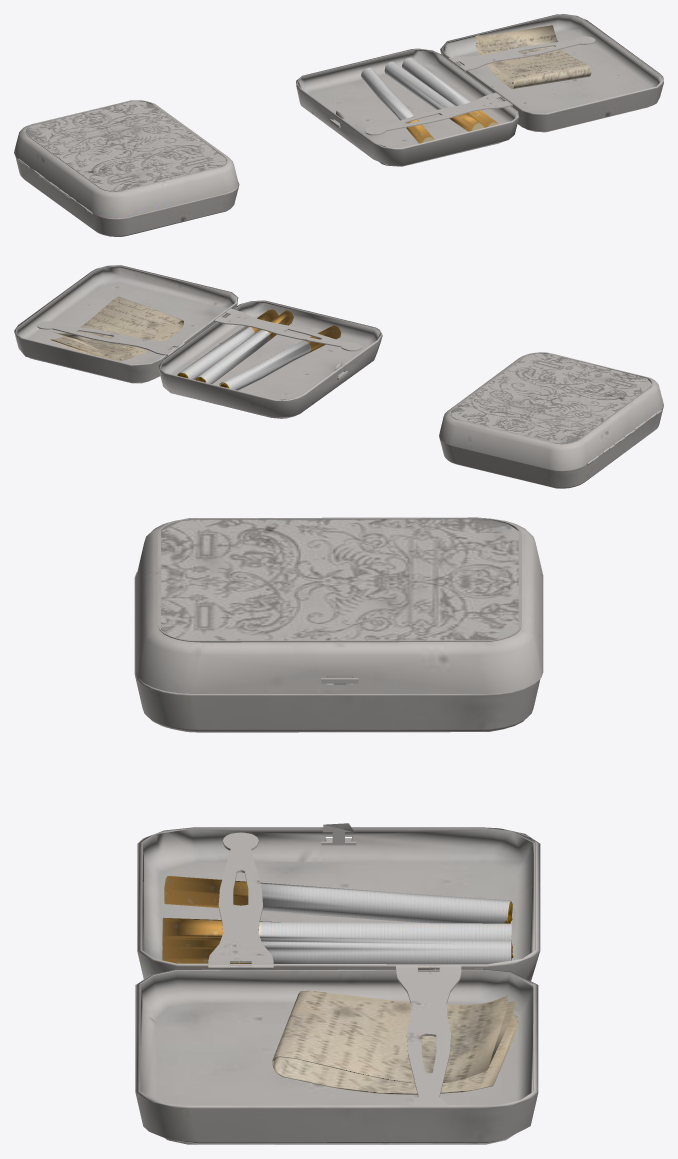
The model's file is cigarette_case.glb.
3 views of the same model, one above another, from view 1: azimuth 30°, elevation 25°; view 2: azimuth 150°, elevation 25°; view 3: azimuth 270°, elevation 25° (orthographic). The views are drawn at different scales.
Visible parts, largest first — view 1: cigarette_case, cigarette_case_cover_a, cigarette_case_cover_b, cigarette_case_note, cigarette_case_clip_a, cigarette_case_cigarette_b, cigarette_case_clip_b, cigarette_case_cigarette_a, cigarette_case_cigarette_c; view 2: cigarette_case, cigarette_case_cover_a, cigarette_case_cover_b, cigarette_case_note, cigarette_case_cigarette_a, cigarette_case_clip_a, cigarette_case_cigarette_b, cigarette_case_clip_b, cigarette_case_cigarette_c; view 3: cigarette_case, cigarette_case_cover_b, cigarette_case_cover_a, cigarette_case_note, cigarette_case_cigarette_a, cigarette_case_cigarette_c, cigarette_case_cigarette_b, cigarette_case_clip_b, cigarette_case_clip_a.
Part boxes in pixels (box(x1,y1,x2,y2)): cigarette_case: box(14, 100, 239, 236); cigarette_case_cover_a: box(296, 48, 519, 166); cigarette_case_cover_b: box(440, 14, 663, 132); cigarette_case_note: box(475, 25, 591, 89); cigarette_case_clip_a: box(365, 92, 512, 135); cigarette_case_cigarette_b: box(384, 61, 484, 131); cigarette_case_clip_b: box(448, 36, 595, 71); cigarette_case_cigarette_a: box(361, 67, 434, 143); cigarette_case_cigarette_c: box(402, 57, 498, 127); cigarette_case: box(439, 352, 663, 488); cigarette_case_cover_a: box(158, 300, 382, 418); cigarette_case_cover_b: box(14, 265, 238, 383); cigarette_case_note: box(49, 296, 183, 361); cigarette_case_cigarette_a: box(219, 325, 340, 390); cigarette_case_clip_a: box(214, 308, 361, 351); cigarette_case_cigarette_b: box(195, 310, 293, 383); cigarette_case_clip_b: box(37, 321, 184, 356); cigarette_case_cigarette_c: box(177, 309, 278, 379); cigarette_case: box(134, 517, 543, 732); cigarette_case_cover_b: box(135, 968, 538, 1144); cigarette_case_cover_a: box(137, 823, 540, 980); cigarette_case_note: box(272, 990, 518, 1094); cigarette_case_cigarette_a: box(164, 876, 512, 923); cigarette_case_cigarette_c: box(162, 938, 513, 964); cigarette_case_cigarette_b: box(162, 917, 512, 947); cigarette_case_clip_b: box(396, 965, 461, 1105); cigarette_case_clip_a: box(208, 832, 273, 969).
Bounding box in the file's own units: 0.3233 × 0.0245 × 0.1004.
1 material, 1 textured.
